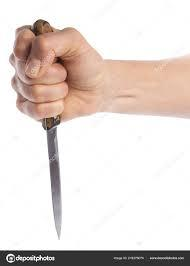Knife: (9, 21, 190, 122), (11, 25, 96, 123), (40, 115, 63, 241)
